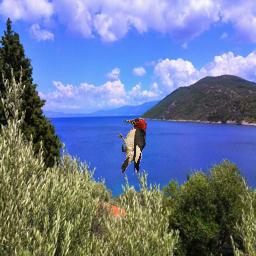Woodpecker: (117, 118, 147, 175)
